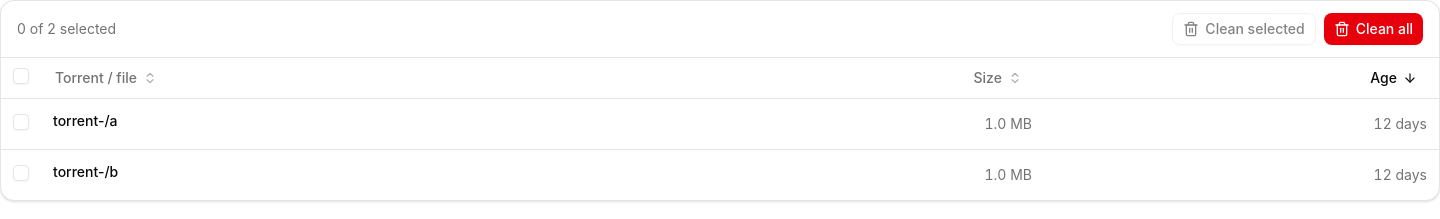
it: CandidateList › select-all toggles every row
Click the checkbox named "Select all" at (21, 76), box [13,68,29,84]
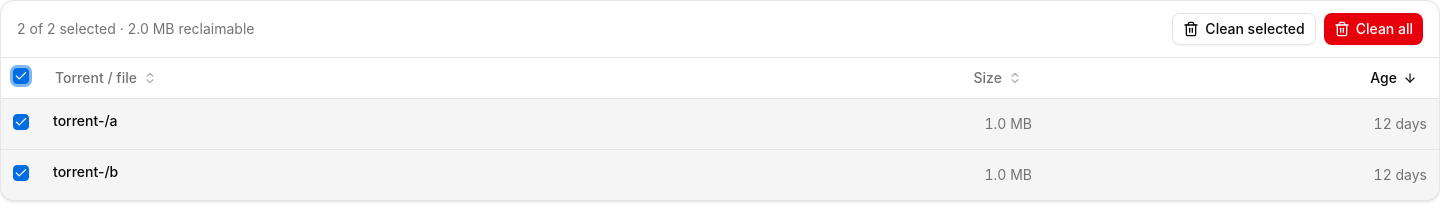
expect the text "2 of 2 selected · 2.0 MB reclaimable" is shown: met, box [17,19,254,39]
